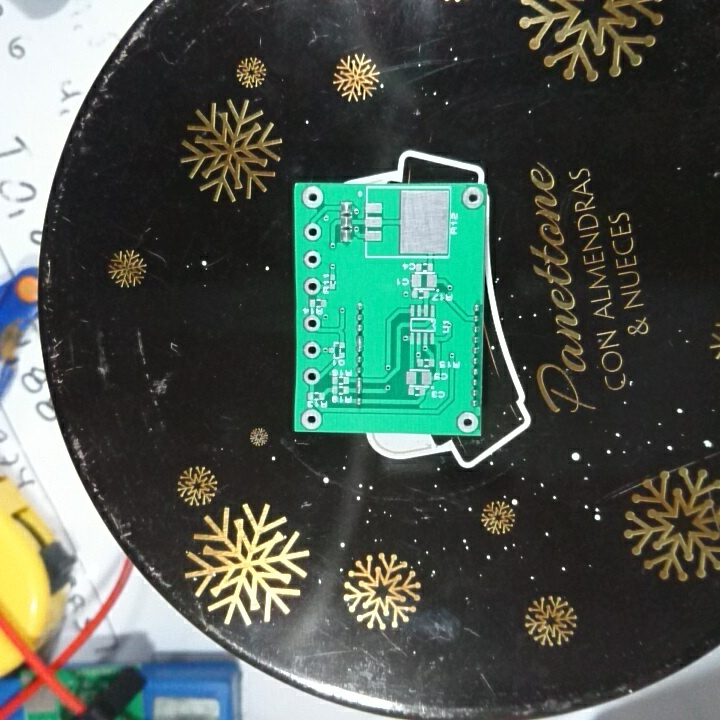F: (300, 184, 325, 209), (460, 185, 485, 209), (300, 407, 323, 431), (456, 411, 480, 433), (302, 249, 322, 269), (302, 276, 322, 296), (302, 222, 322, 241), (302, 313, 322, 332), (302, 366, 321, 386), (302, 340, 320, 359)
P: (354, 374, 365, 395), (354, 334, 365, 353)
